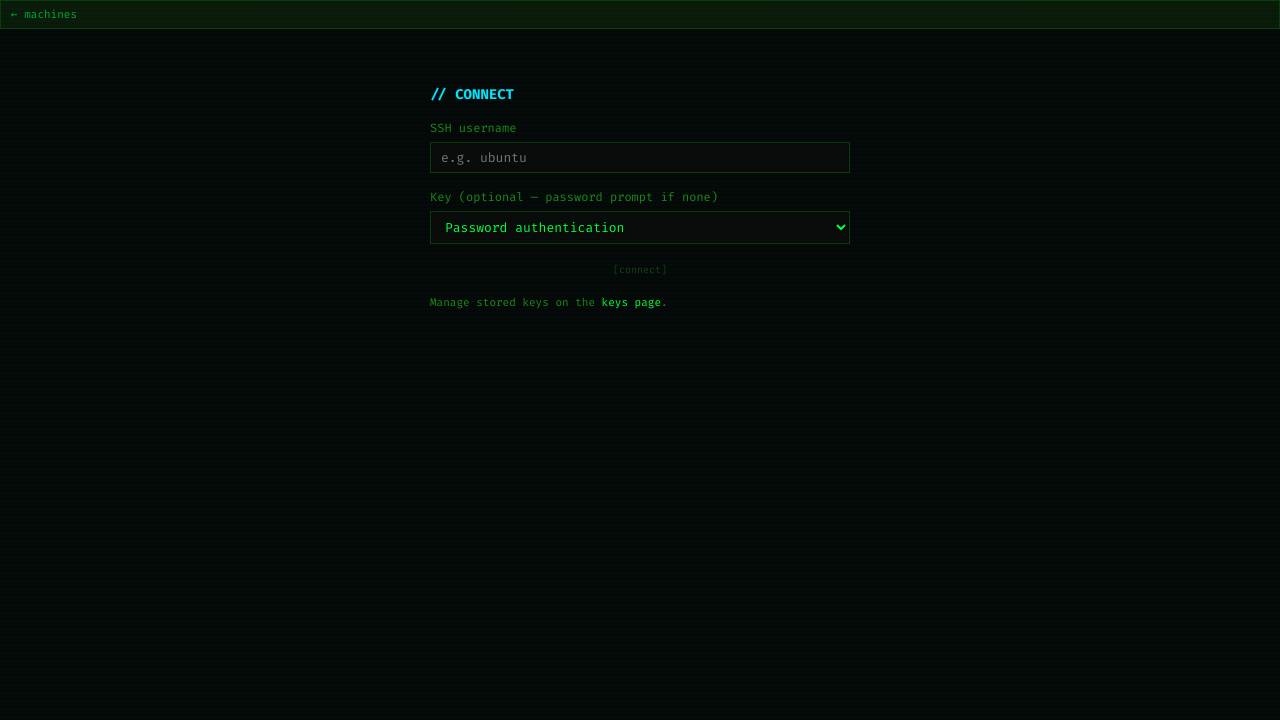
Test: button styling convention › ConnectView form buttons use shared classes (including inline key section)
Step 1. Select "Use a key just for this session…" in the dropdown labelled "Key (optional — password prompt if none)" → (640, 228), box top-left (430, 211), bottom-right (850, 244)
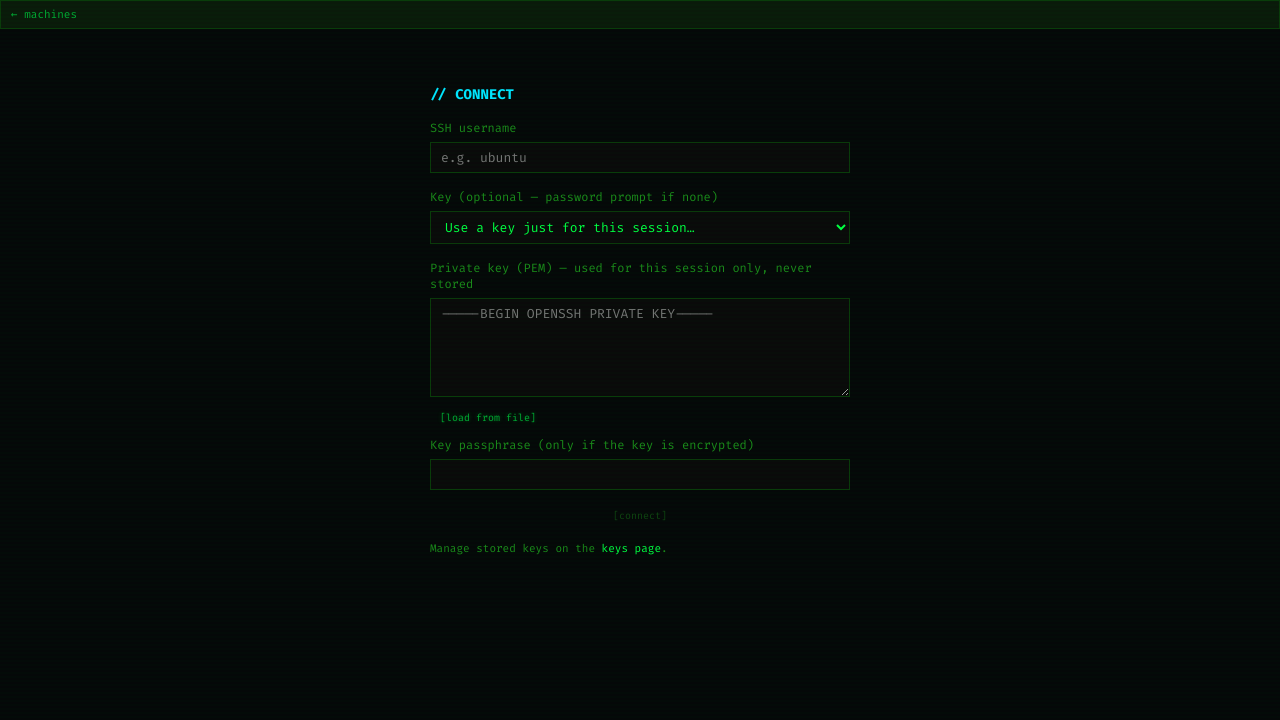
Result: the button "[load from file]" is shown at top-left (430, 408), bottom-right (546, 427)
